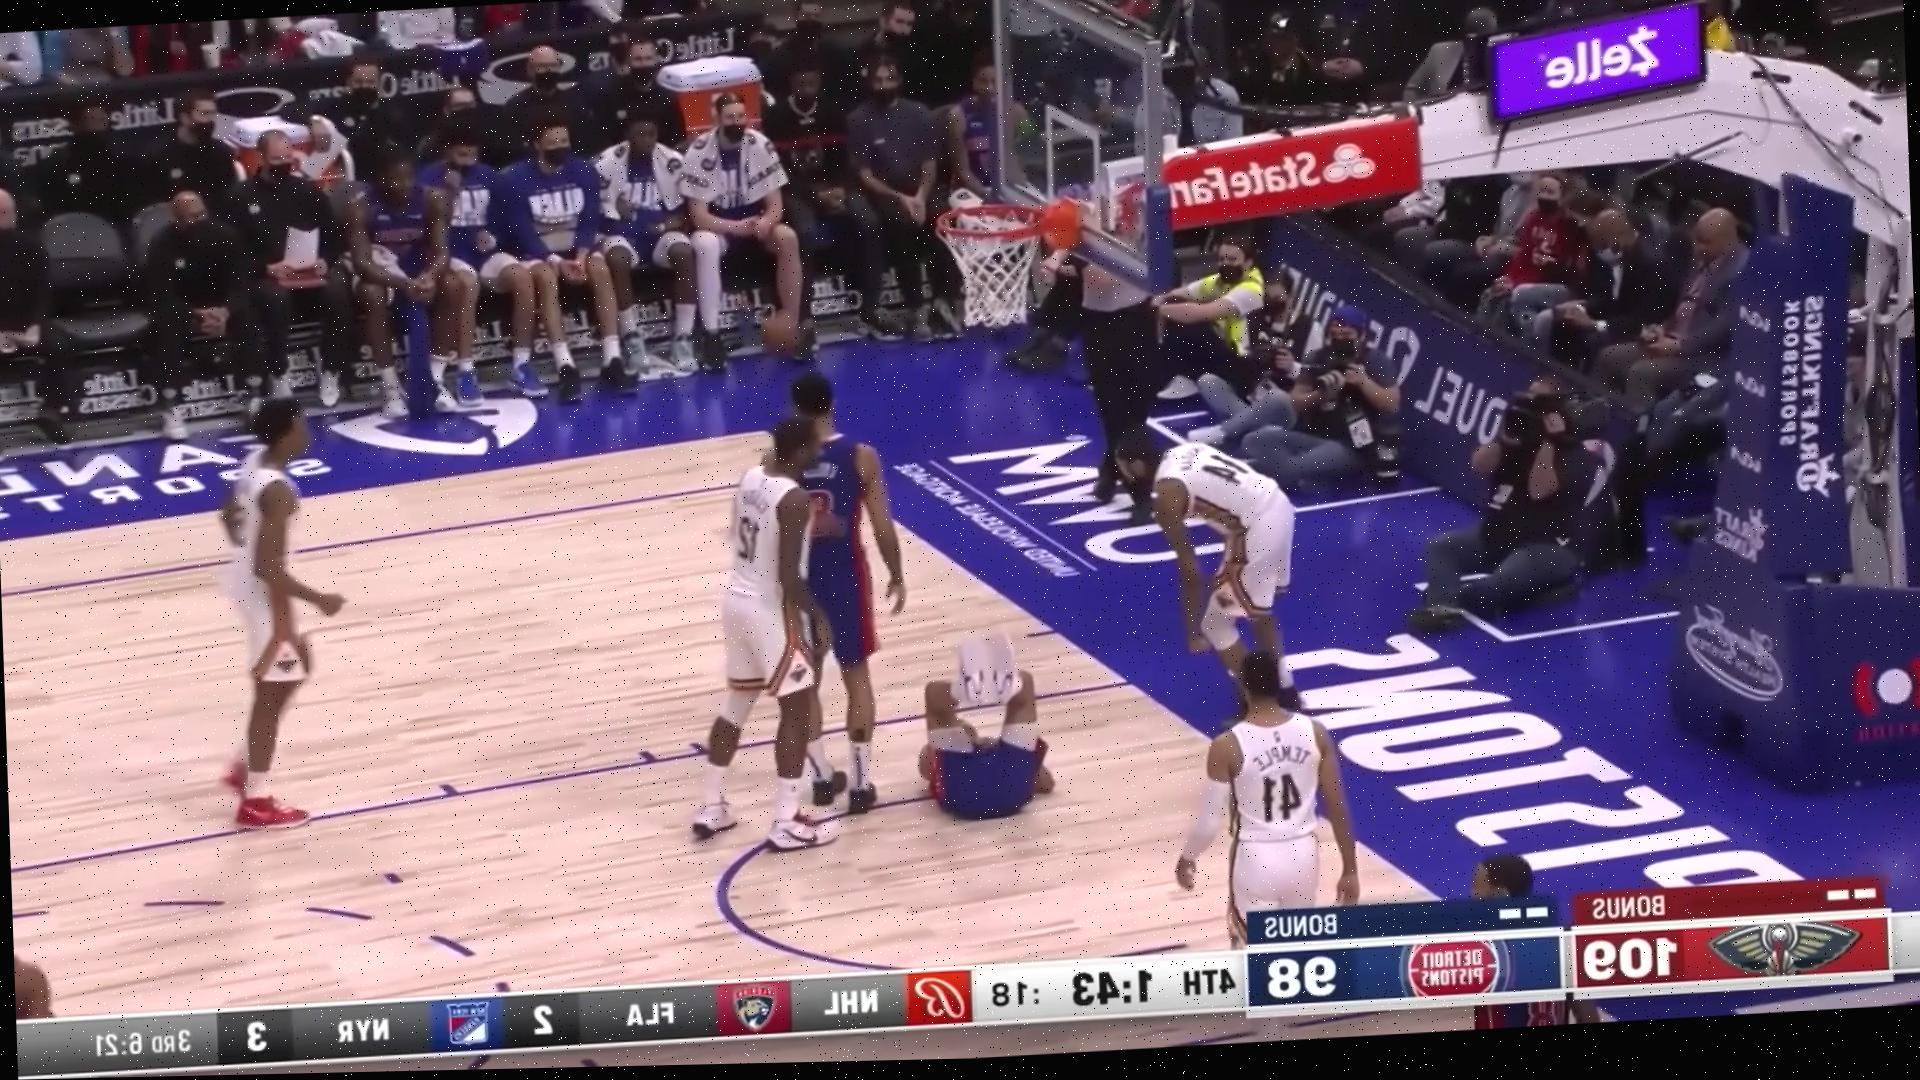foul: (621, 571, 1104, 909)
